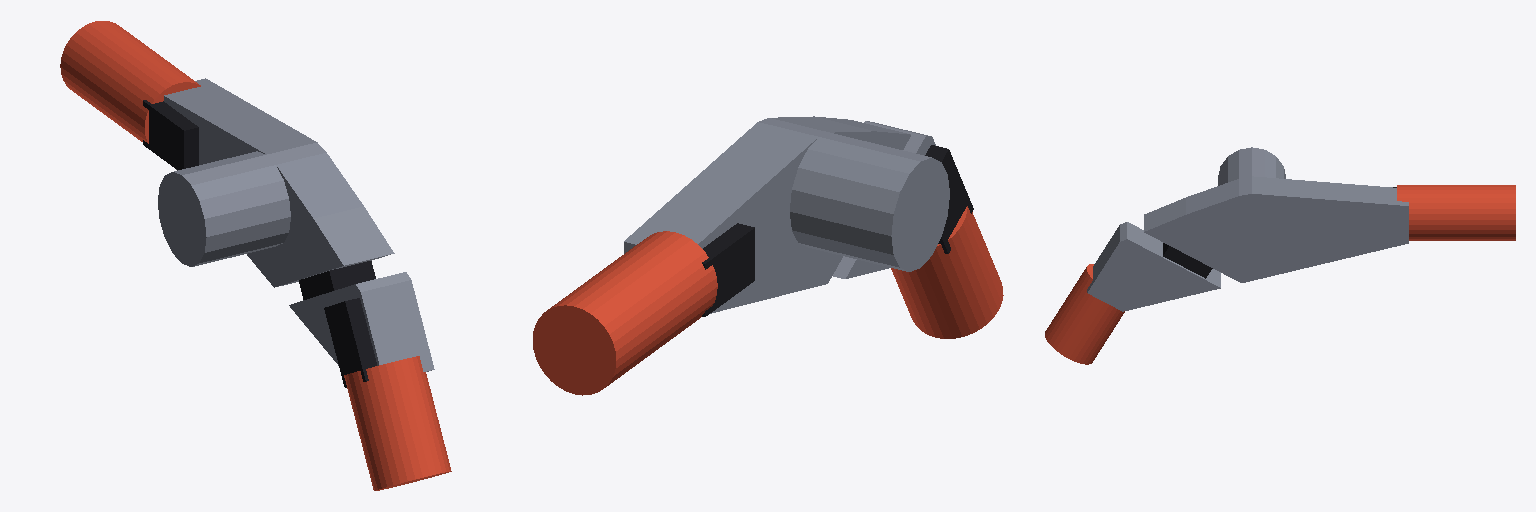
robot.urdf — g0041_c09:
<robot name="g0041_c09">
  <link name="palm">
    <visual name="palm_palm1">
      <origin xyz="0 0 0" rpy="0 0 0" />
      <geometry>
        <mesh filename="palm_palm1.obj" />
      </geometry>
      <material name="palm_palm1_mat">
        <color rgba="0.55 0.57 0.62 1" />
      </material>
    </visual>
    <collision>
      <origin xyz="0 0 0" rpy="0 0 0" />
      <geometry>
        <mesh filename="palm_palm1.obj" />
      </geometry>
    </collision>
    <visual name="palm_mount2">
      <origin xyz="0 0 0" rpy="0 0 0" />
      <geometry>
        <mesh filename="palm_mount2.obj" />
      </geometry>
      <material name="palm_mount2_mat">
        <color rgba="0.55 0.57 0.62 1" />
      </material>
    </visual>
    <collision>
      <origin xyz="0 0 0" rpy="0 0 0" />
      <geometry>
        <mesh filename="palm_mount2.obj" />
      </geometry>
    </collision>
    <visual name="palm_hinge3">
      <origin xyz="0 -0.0335705081 -0.0181458256" rpy="1.57079633 -0.523598776 -1.57079633" />
      <geometry>
        <box size="0.029 0.034 0.02" />
      </geometry>
      <material name="palm_hinge3_mat">
        <color rgba="0.15 0.15 0.17 1" />
      </material>
    </visual>
    <collision>
      <origin xyz="0 -0.0335705081 -0.0181458256" rpy="1.57079633 -0.523598776 -1.57079633" />
      <geometry>
        <box size="0.029 0.034 0.02" />
      </geometry>
    </collision>
    <visual name="palm_motor4">
      <origin xyz="-0.0045 0.0725 -4.5924255e-19" rpy="-3.14159265 6.123234e-17 3.74939946e-33" />
      <geometry>
        <box size="0.029 0.034 0.02" />
      </geometry>
      <material name="palm_motor4_mat">
        <color rgba="0.15 0.15 0.17 1" />
      </material>
    </visual>
    <collision>
      <origin xyz="-0.0045 0.0725 -4.5924255e-19" rpy="-3.14159265 6.123234e-17 3.74939946e-33" />
      <geometry>
        <box size="0.029 0.034 0.02" />
      </geometry>
    </collision>
    <inertial>
      <origin xyz="5.1991688e-19 0.018116275 -0.00569102259" rpy="1.57079633 -0.0634556857 1.57079633" />
      <mass value="0.237587282" />
      <inertia ixx="4.88032884e-05" ixy="0" ixz="0" iyy="0.000335249104" iyz="0" izz="0.000361244014" />
    </inertial>
  </link>
  <link name="palm0">
    <visual name="palm0_palm1">
      <origin xyz="0 0 0" rpy="0 0 0" />
      <geometry>
        <mesh filename="palm0_palm1.obj" />
      </geometry>
      <material name="palm0_palm1_mat">
        <color rgba="0.55 0.57 0.62 1" />
      </material>
    </visual>
    <collision>
      <origin xyz="0 0 0" rpy="0 0 0" />
      <geometry>
        <mesh filename="palm0_palm1.obj" />
      </geometry>
    </collision>
    <visual name="palm0_motor2">
      <origin xyz="-0.0045 -0.0389294919 -0.00886379332" rpy="1.04719755 -3.061617e-17 -5.30287619e-17" />
      <geometry>
        <box size="0.029 0.034 0.02" />
      </geometry>
      <material name="palm0_motor2_mat">
        <color rgba="0.15 0.15 0.17 1" />
      </material>
    </visual>
    <collision>
      <origin xyz="-0.0045 -0.0389294919 -0.00886379332" rpy="1.04719755 -3.061617e-17 -5.30287619e-17" />
      <geometry>
        <box size="0.029 0.034 0.02" />
      </geometry>
    </collision>
    <inertial>
      <origin xyz="7.32366626e-20 -0.0257371019 -0.0105400448" rpy="1.57079633 0.0622136723 1.57079633" />
      <mass value="0.0790623723" />
      <inertia ixx="1.17321096e-05" ixy="0" ixz="0" iyy="2.55169888e-05" iyz="0" izz="2.96591106e-05" />
    </inertial>
  </link>
  <link name="f0_link0">
    <visual name="f0_link0_link1">
      <origin xyz="0.029 0 -3.46944695e-18" rpy="-1.57079633 -0 -1.57079633" />
      <geometry>
        <cylinder radius="0.0165" length="0.049" />
      </geometry>
      <material name="f0_link0_link1_mat">
        <color rgba="0.85 0.35 0.25 1" />
      </material>
    </visual>
    <collision>
      <origin xyz="0.029 0 -3.46944695e-18" rpy="-1.57079633 -0 -1.57079633" />
      <geometry>
        <cylinder radius="0.0165" length="0.049" />
      </geometry>
    </collision>
    <inertial>
      <origin xyz="0.029 0 0" rpy="0 0 0" />
      <mass value="0.106270851" />
      <inertia ixx="1.35696277e-05" ixy="0" ixz="0" iyy="5.30015704e-05" iyz="0" izz="5.30015704e-05" />
    </inertial>
  </link>
  <link name="f1_link0">
    <visual name="f1_link0_link1">
      <origin xyz="0.039 0 -3.85185989e-34" rpy="-1.57079633 -0 -1.57079633" />
      <geometry>
        <cylinder radius="0.0165" length="0.069" />
      </geometry>
      <material name="f1_link0_link1_mat">
        <color rgba="0.85 0.35 0.25 1" />
      </material>
    </visual>
    <collision>
      <origin xyz="0.039 0 -3.85185989e-34" rpy="-1.57079633 -0 -1.57079633" />
      <geometry>
        <cylinder radius="0.0165" length="0.069" />
      </geometry>
    </collision>
    <inertial>
      <origin xyz="0.039 0 0" rpy="0 0 0" />
      <mass value="0.136206302" />
      <inertia ixx="1.76445909e-05" ixy="0" ixz="0" iyy="0.000104842911" iyz="0" izz="0.000104842911" />
    </inertial>
  </link>
  <joint name="palm0_joint" type="revolute">
    <parent link="palm" />
    <child link="palm0" />
    <origin xyz="0 -0.0373205081 -0.0246410162" rpy="0 0 0" />
    <axis xyz="0 -0.866025404 0.5" />
    <limit effort="0.5" lower="-0.523598776" upper="0.523598776" velocity="5" />
    <dynamics damping="0.0775033" friction="0" />
  </joint>
  <joint name="f0_j0" type="revolute">
    <parent link="palm0" />
    <child link="f0_link0" />
    <origin xyz="-0.0045 -0.0426794919 -0.0153589838" rpy="0 1.04719755 -1.57079633" />
    <axis xyz="0 1 6.123234e-17" />
    <limit effort="0.5" lower="-0.523598776" upper="0.523598776" velocity="5" />
    <dynamics damping="0.0775033" friction="0" />
  </joint>
  <joint name="f1_j0" type="revolute">
    <parent link="palm" />
    <child link="f1_link0" />
    <origin xyz="-0.0045 0.08 0" rpy="-3.14159265 -6.123234e-17 1.57079633" />
    <axis xyz="0 1 6.123234e-17" />
    <limit effort="0.5" lower="-0.523598776" upper="0.523598776" velocity="5" />
    <dynamics damping="0.0775033" friction="0" />
  </joint>
</robot>

--- Facts derived from the render (not from the file) ---
3 views of the same robot in one strip: view 1: azimuth 30°, elevation 25°; view 2: azimuth 150°, elevation 25°; view 3: azimuth 270°, elevation 25° (orthographic).
Model g0041_c09 with 4 links and 3 joints (3 revolute), rooted at palm, posed all joints at 0.
Visible links, largest first — view 1: palm, f0_link0, palm0, f1_link0; view 2: palm, f1_link0, f0_link0, palm0; view 3: palm, palm0, f1_link0, f0_link0.
Link boxes in pixels (left/top/right/bottom): palm: left=143, top=78, right=394, bottom=299; f0_link0: left=344, top=356, right=451, bottom=490; palm0: left=289, top=272, right=434, bottom=387; f1_link0: left=60, top=21, right=200, bottom=143; palm: left=624, top=116, right=949, bottom=316; f1_link0: left=533, top=231, right=717, bottom=395; f0_link0: left=891, top=206, right=1003, bottom=338; palm0: left=833, top=121, right=973, bottom=278; palm: left=1144, top=147, right=1408, bottom=282; palm0: left=1087, top=222, right=1220, bottom=311; f1_link0: left=1397, top=185, right=1515, bottom=240; f0_link0: left=1045, top=264, right=1124, bottom=364.
Size in the robot's own frame: 0.064 by 0.2745 by 0.1146 metres.
3 mesh visuals loaded from 3 distinct referenced files (3 OBJ).
